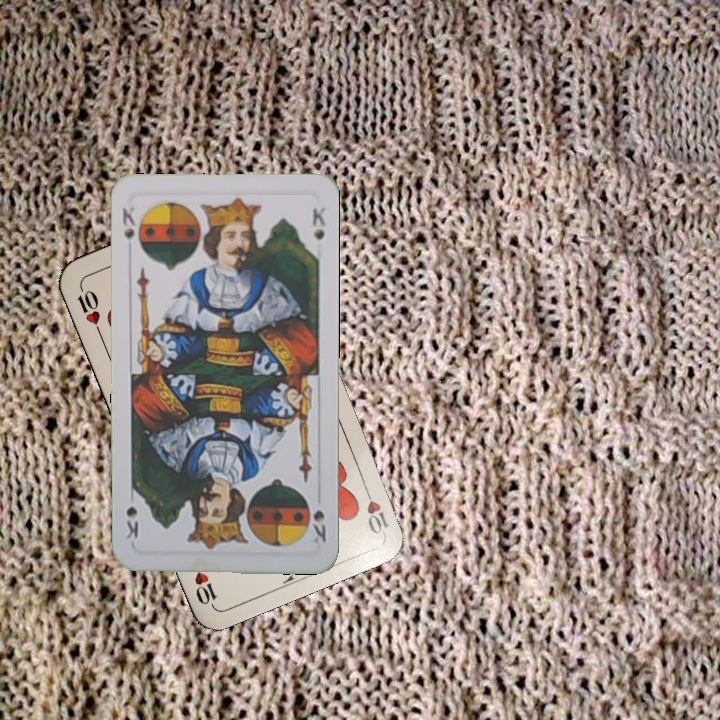H10: (358, 479, 391, 537), (73, 282, 105, 338)
SK: (307, 506, 328, 546), (118, 202, 138, 241)
